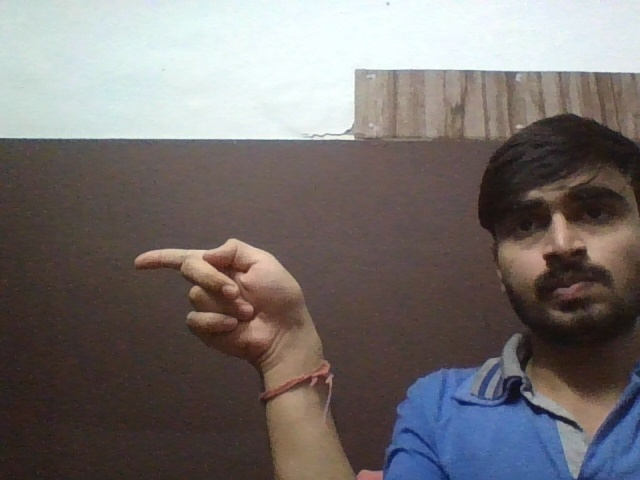G: (118, 236, 307, 365)
